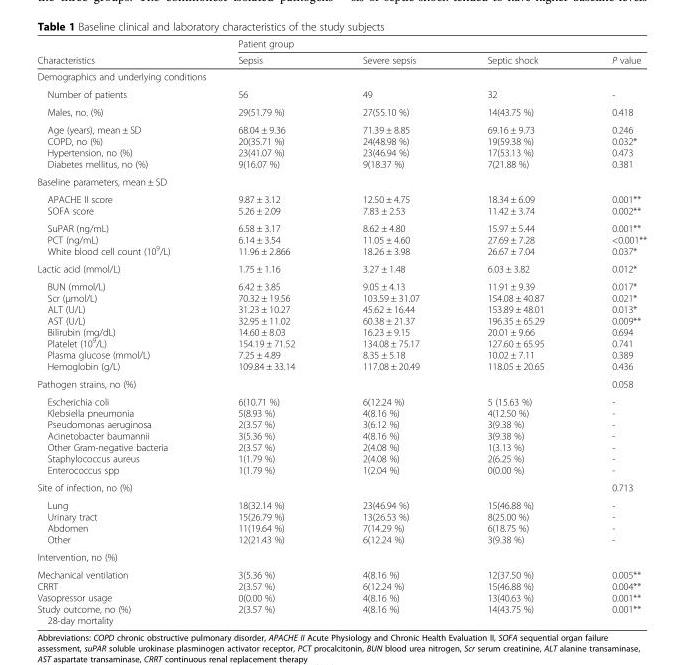table: (36, 37, 646, 625)
table column: (36, 37, 203, 625), (203, 37, 328, 625), (452, 37, 577, 625), (328, 37, 452, 625), (577, 37, 646, 625)
table column header: (36, 37, 646, 67)
table projected row header: (36, 67, 646, 85), (36, 172, 646, 190), (36, 547, 646, 565)
table row: (36, 277, 646, 374), (36, 392, 646, 478), (36, 565, 646, 625), (36, 120, 646, 172), (36, 496, 646, 547), (36, 219, 646, 259), (36, 190, 646, 219), (36, 67, 646, 85), (36, 102, 646, 120), (36, 172, 646, 190), (36, 259, 646, 277), (36, 374, 646, 392), (36, 478, 646, 496), (36, 547, 646, 565), (36, 85, 646, 102), (36, 51, 646, 67), (36, 37, 646, 51)
table spanning cell: (203, 37, 646, 51), (36, 37, 203, 67)
